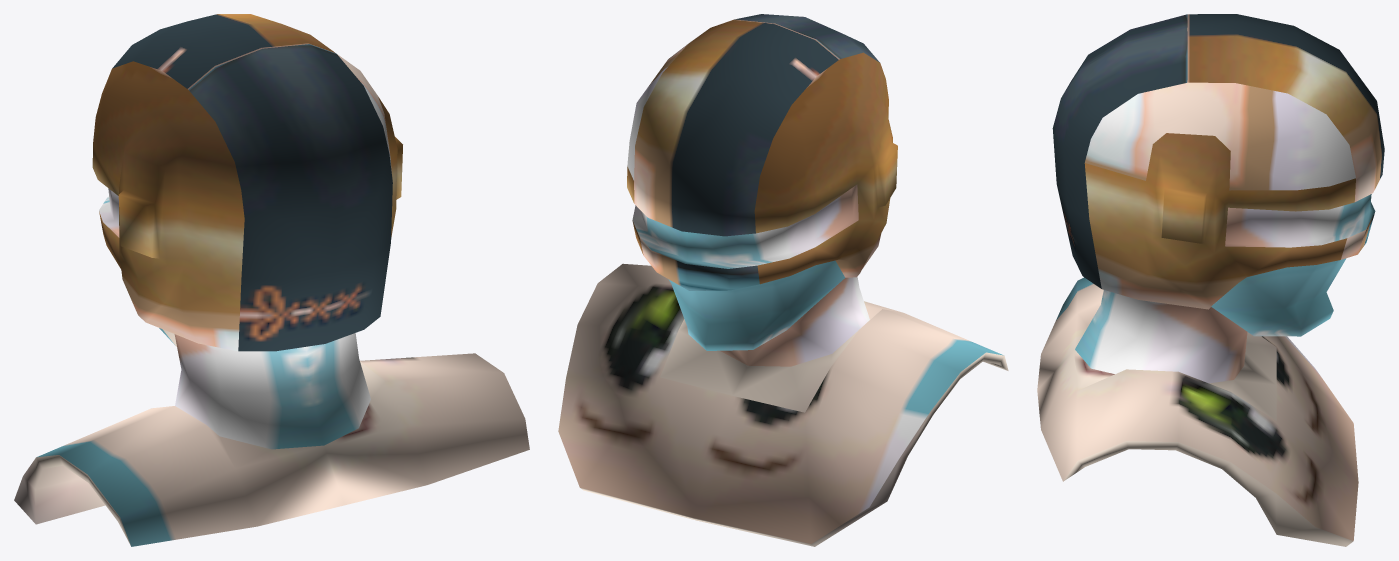
File: view.ico.obj
3 renders of one model, left to right at view 1: azimuth 30°, elevation 25°; view 2: azimuth 150°, elevation 25°; view 3: azimuth 270°, elevation 25°, orthographic. The views are drawn at different scales.
Bounding box in the file's own units: 2.77 × 3.21 × 2.2.
